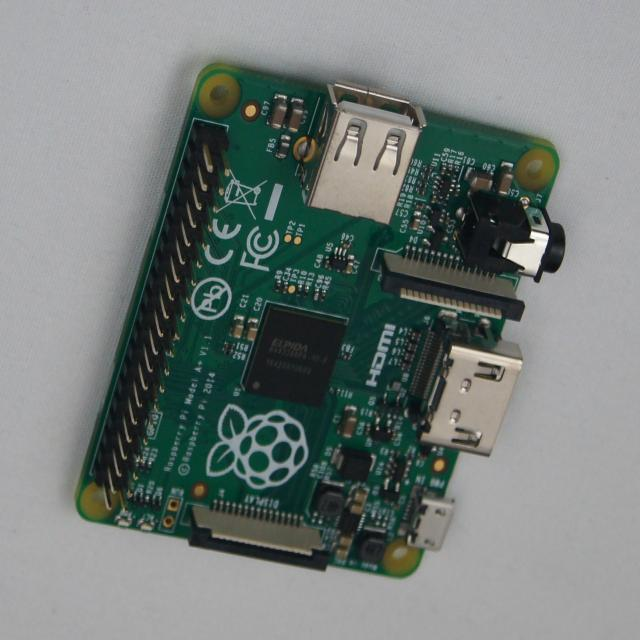Raspberry-Pi-1-A-: (77, 64, 565, 578)
